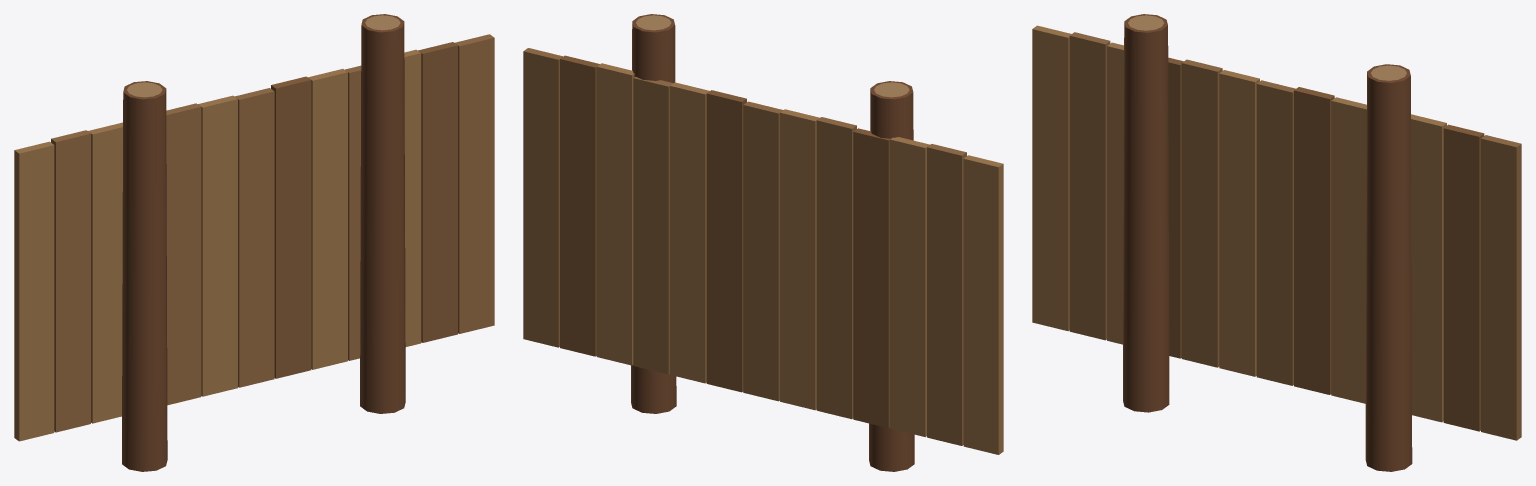
The model's file is quay.glb.
3 renders of one model, left to right at view 1: azimuth 30°, elevation 25°; view 2: azimuth 150°, elevation 25°; view 3: azimuth 330°, elevation 25°, orthographic.
Visible parts, largest first — view 1: quay; view 2: quay; view 3: quay.
Boxes of the visible parts, <box> form: quay: <box>14,14,494,471</box>; quay: <box>523,14,1003,471</box>; quay: <box>1032,14,1521,471</box>.
Bounding box in the file's own units: 3.99 × 3.06 × 0.34.
